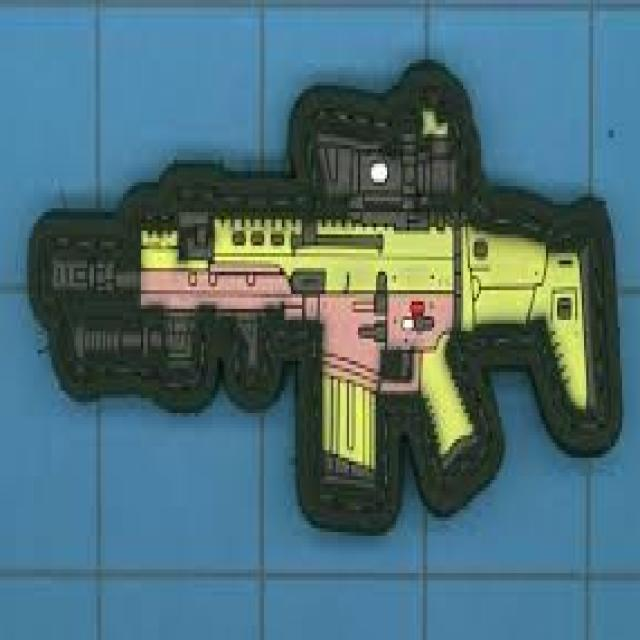Gun: (29, 94, 636, 514)
